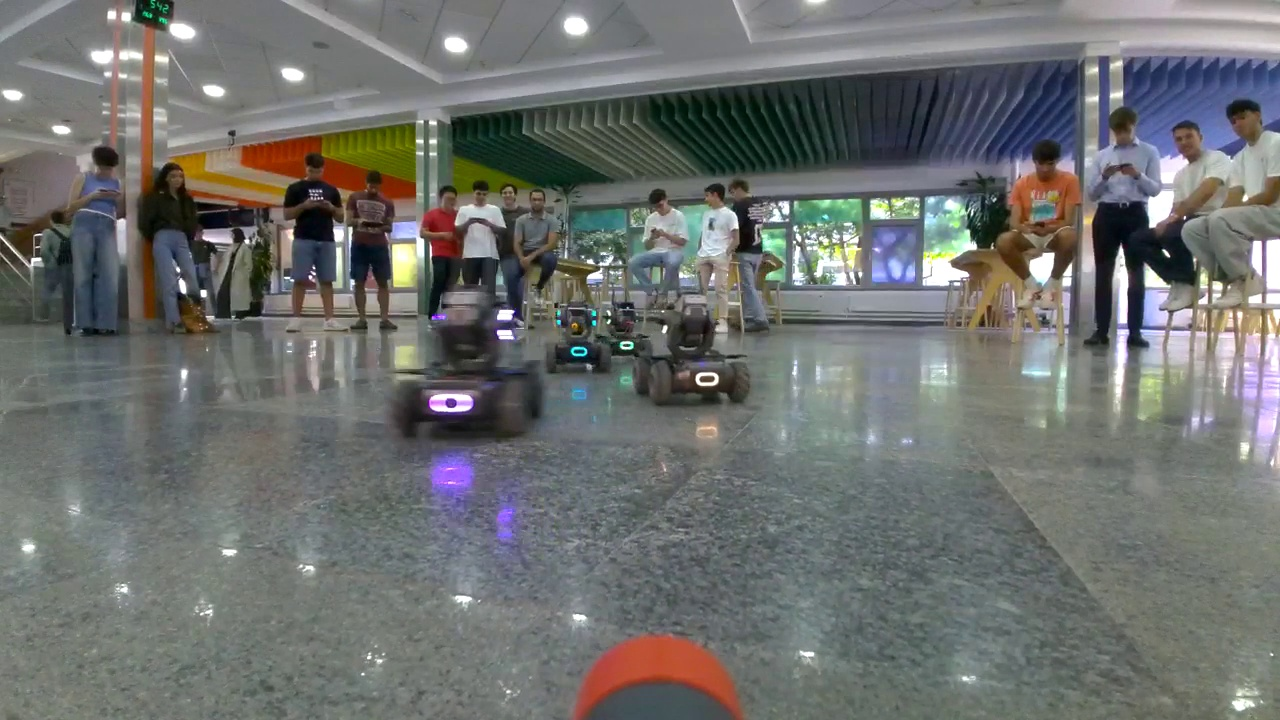robot: (391, 288, 547, 437), (632, 288, 753, 405), (547, 298, 611, 375), (593, 299, 654, 364)
